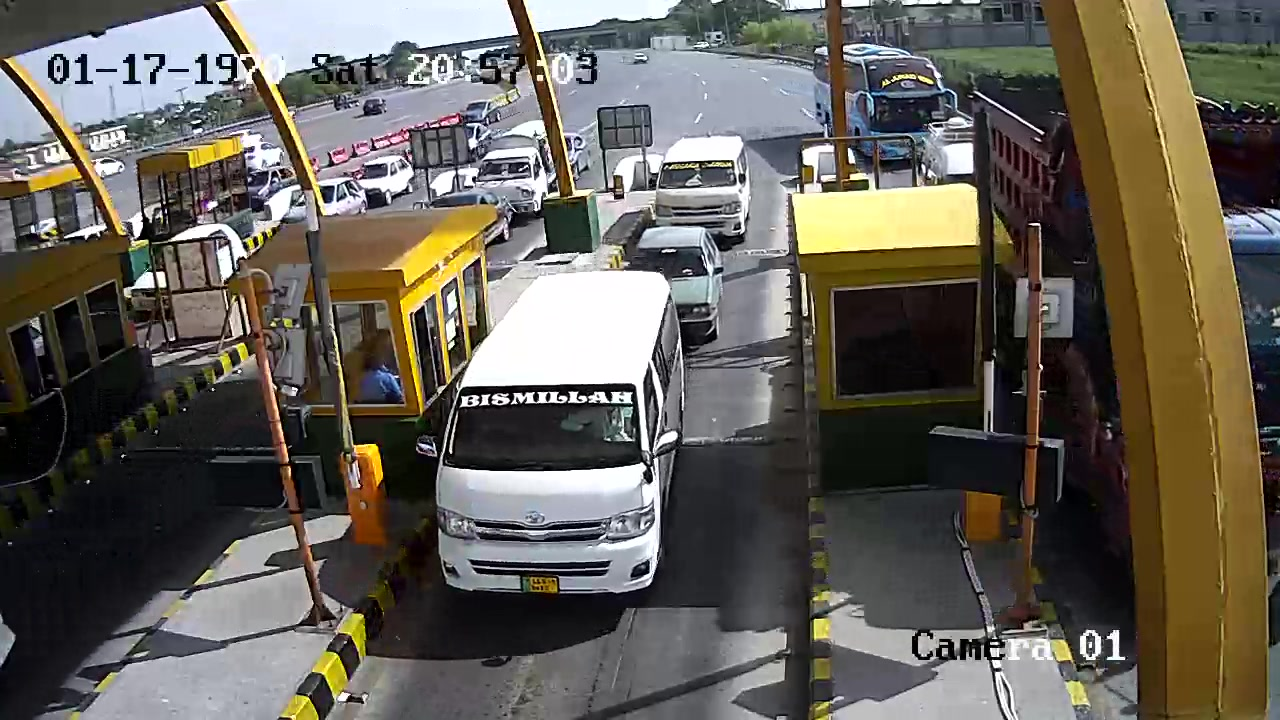F2: (426, 269, 693, 609)
